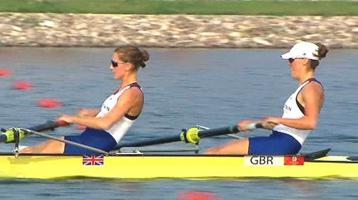person: (198, 42, 330, 160)
